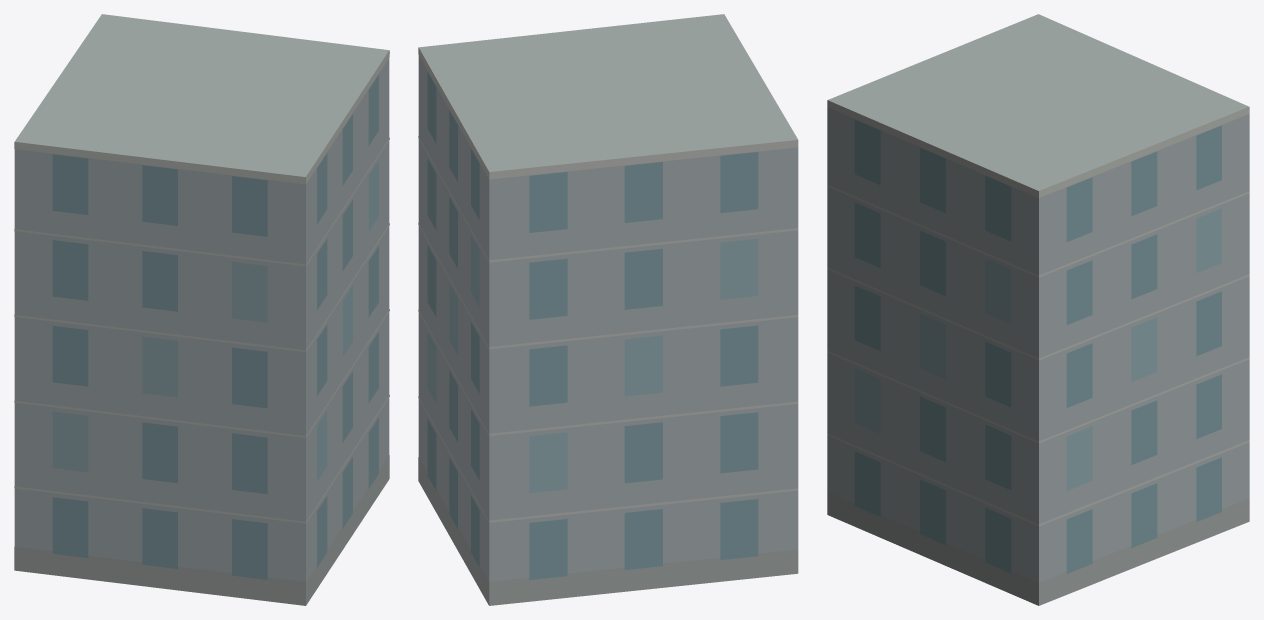
The model's file is survey-upis-32806010.glb.
3 views of the same model, side by side, from view 1: azimuth 30°, elevation 25°; view 2: azimuth 150°, elevation 25°; view 3: azimuth 270°, elevation 25° (orthographic). The views are drawn at different scales.
Parts seen in each view (by area): view 1: survey-upis-32806010.tmp; view 2: survey-upis-32806010.tmp; view 3: survey-upis-32806010.tmp.
Boxes of the visible parts, bbox=[...] form: survey-upis-32806010.tmp: bbox=[14, 14, 389, 605]; survey-upis-32806010.tmp: bbox=[418, 14, 798, 605]; survey-upis-32806010.tmp: bbox=[827, 14, 1249, 605].
Bounding box in the file's own units: 13.11 × 14.3 × 13.21.
